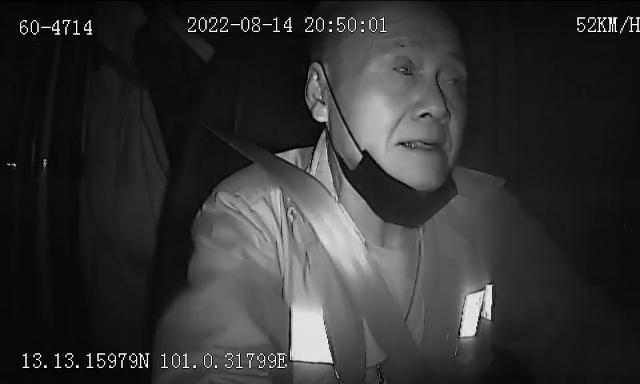SafeDriving: (386, 50, 422, 84), (434, 61, 468, 94)
Seatbelt: (215, 128, 430, 384)
